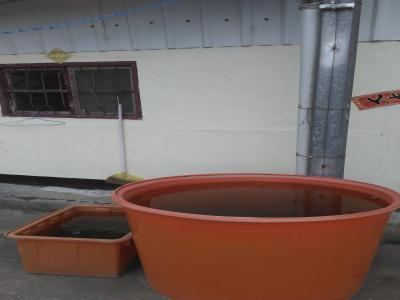box: (4, 202, 133, 277)
bucket: (109, 172, 399, 298)
